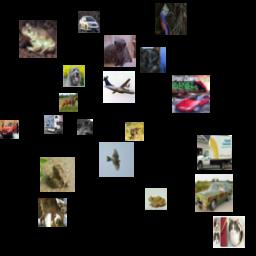airplane: (103, 71, 135, 103)
automobile: (195, 174, 233, 212), (172, 75, 210, 113), (78, 11, 100, 33), (0, 120, 19, 139)
bird: (99, 142, 134, 177), (155, 3, 187, 35)
cat: (213, 216, 245, 248), (104, 35, 136, 67), (140, 47, 166, 73), (77, 119, 93, 135)
deer: (38, 198, 67, 227), (125, 122, 144, 141)
dog: (63, 65, 85, 87)
frog: (19, 20, 57, 58), (40, 157, 75, 192), (145, 188, 167, 210)
truck: (197, 135, 232, 170), (44, 115, 63, 134)
